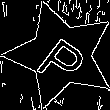P_NE: (29, 23, 92, 87)
